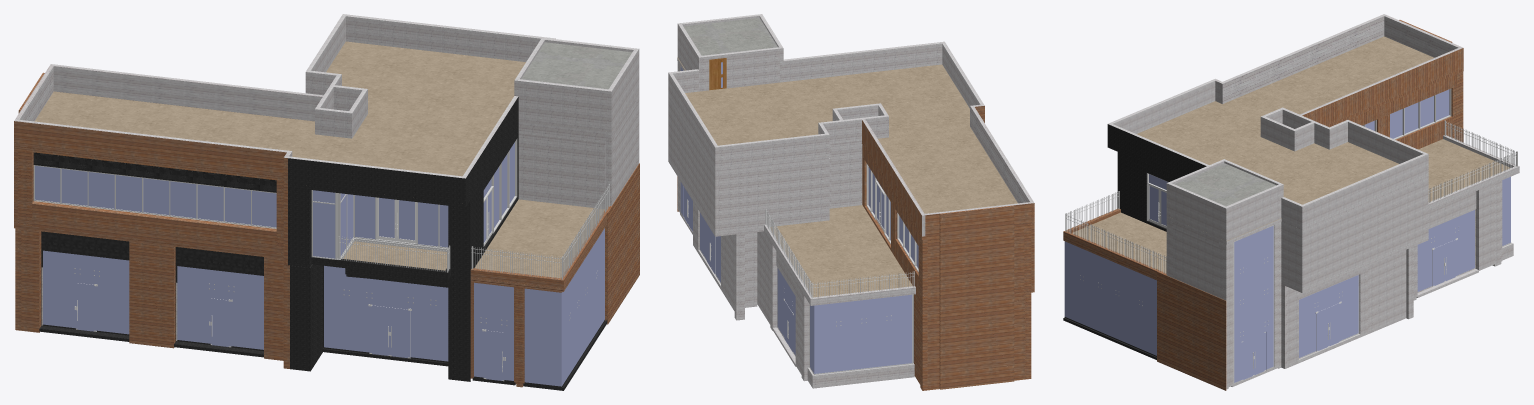
3 views of the same model, side by side, from view 1: azimuth 30°, elevation 25°; view 2: azimuth 150°, elevation 25°; view 3: azimuth 270°, elevation 25° (orthographic). The views are drawn at different scales.
Parts seen in each view (by area): view 1: Floor SLAB-20CM [355981], Floor SLAB-22CM [346735], Basic Wall WALL - 200mm [357671], Basic Wall WALL - 200mm [366564], Basic Wall WALL - 300mm [451180], Basic Wall WALL - 200mm [360364], Basic Wall WALL - 200mm [366134], Basic Wall WALL - 200mm [365708], Basic Wall WALL - 300mm [361688], Basic Wall WALL - 200mm [376842], dec-3 dec-3 [386468], DEC-2 DEC-2 [385916] (+69 smaller); view 2: Floor SLAB-20CM [355981], Basic Wall WALL - 100mm [379094], Floor SLAB-22CM [346735], Basic Wall WALL - 200mm [361099], Basic Wall WALL - 200mm [365793], Basic Wall WALL - 300mm [361181], Basic Wall WALL - 200mm [366181], Floor SLAB-20CM [472260], Basic Wall WALL - 200mm [376940], Basic Wall WALL - 200mm [351096], Basic Wall WALL - 200mm [486285], Basic Wall WALL - 200mm [366564] (+38 smaller); view 3: Floor SLAB-20CM [355981], Basic Wall WALL - 300mm [361181], Floor SLAB-22CM [346735], DEC-2 DEC-2 [385916], Basic Wall WALL - 200mm [357671], Basic Wall WALL - 200mm [366564], Basic Wall WALL - 200mm [366134], Basic Wall WALL - 300mm [354273], Basic Wall WALL - 200mm [373038], Floor SLAB-20CM [472260], Basic Wall WALL - 200mm [365708], Basic Wall WALL - 300mm [355016] (+52 smaller).
Part boxes in pixels (x1,y1,x2,y2): Floor SLAB-20CM [355981]: (14,41,639,207); Floor SLAB-22CM [346735]: (14,199,607,288); Basic Wall WALL - 200mm [357671]: (14,119,292,177); Basic Wall WALL - 200mm [366564]: (50,64,323,121); Basic Wall WALL - 300mm [451180]: (32,201,276,253); Basic Wall WALL - 200mm [360364]: (518,133,605,209); Basic Wall WALL - 200mm [366134]: (342,14,551,61); Basic Wall WALL - 200mm [365708]: (288,156,466,203); Basic Wall WALL - 300mm [361688]: (129,241,175,348); Basic Wall WALL - 200mm [376842]: (514,78,608,131); dec-3 dec-3 [386468]: (448,200,470,381); DEC-2 DEC-2 [385916]: (607,163,639,324); Floor SLAB-20CM [355981]: (668,57,1034,239); Basic Wall WALL - 100mm [379094]: (939,205,1014,389); Floor SLAB-22CM [346735]: (668,158,1034,305); Basic Wall WALL - 200mm [361099]: (745,159,826,229); Basic Wall WALL - 200mm [365793]: (780,42,942,82); Basic Wall WALL - 300mm [361181]: (668,97,714,230); Basic Wall WALL - 200mm [366181]: (718,133,829,167); Floor SLAB-20CM [472260]: (683,18,777,55); Basic Wall WALL - 200mm [376940]: (702,47,779,90); Basic Wall WALL - 200mm [351096]: (927,293,1025,390); Basic Wall WALL - 200mm [486285]: (831,140,862,208); Basic Wall WALL - 200mm [366564]: (862,119,925,236); Floor SLAB-20CM [355981]: (1107,36,1463,244); Basic Wall WALL - 300mm [361181]: (1298,178,1425,289); Floor SLAB-22CM [346735]: (1063,133,1519,292); DEC-2 DEC-2 [385916]: (1157,271,1226,390); Basic Wall WALL - 200mm [357671]: (1220,14,1385,103); Basic Wall WALL - 200mm [366564]: (1300,47,1463,125); Basic Wall WALL - 200mm [366134]: (1302,153,1428,225); Basic Wall WALL - 300mm [354273]: (1368,250,1406,333); Basic Wall WALL - 200mm [373038]: (1172,228,1218,297); Floor SLAB-20CM [472260]: (1174,163,1275,206); Basic Wall WALL - 200mm [365708]: (1107,80,1215,144); Basic Wall WALL - 300mm [355016]: (1222,223,1278,387).
Bounding box in the file's own units: 28.43 × 11.65 × 26.44.
12 materials, 10 textured.
